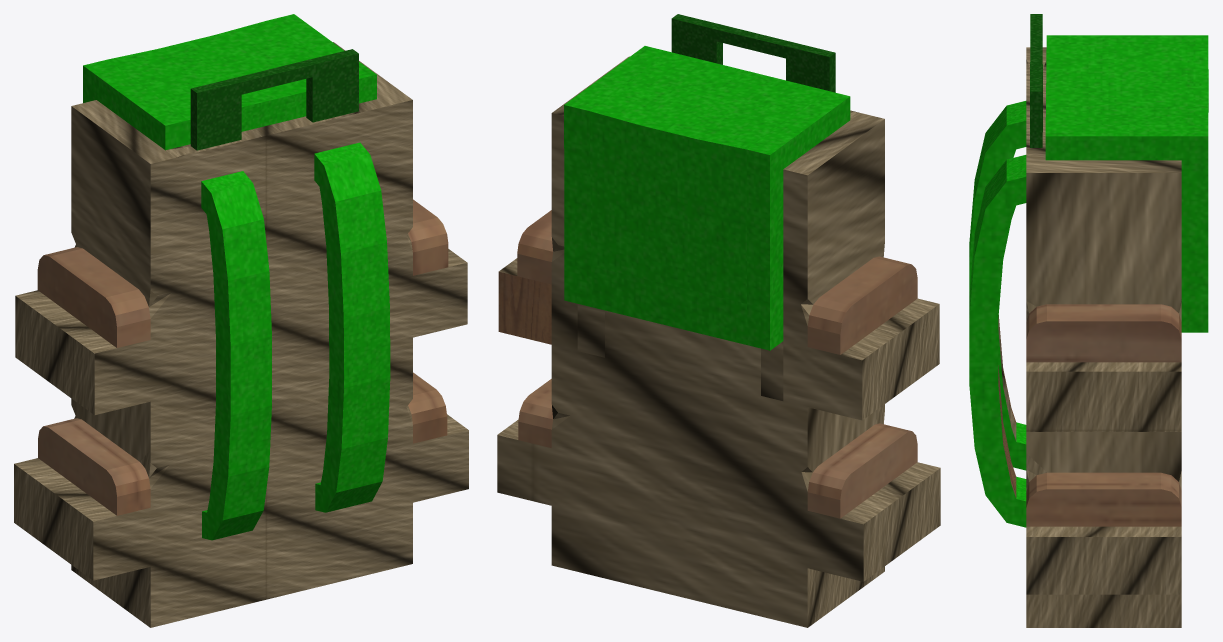
The model's file is backpack export to unity.fbx.
3 views of the same model, side by side, from view 1: azimuth 30°, elevation 25°; view 2: azimuth 150°, elevation 25°; view 3: azimuth 270°, elevation 25° (orthographic). The views are drawn at different scales.
Parts seen in each view (by area): view 1: pCube3; view 2: pCube3; view 3: pCube3.
Part boxes in pixels (x1,y1,x2,y2): pCube3: (14,14,468,627); pCube3: (497,14,940,627); pCube3: (969,14,1208,627).
Size of the model in its own units: 51.32 by 68.1 by 28.84.
